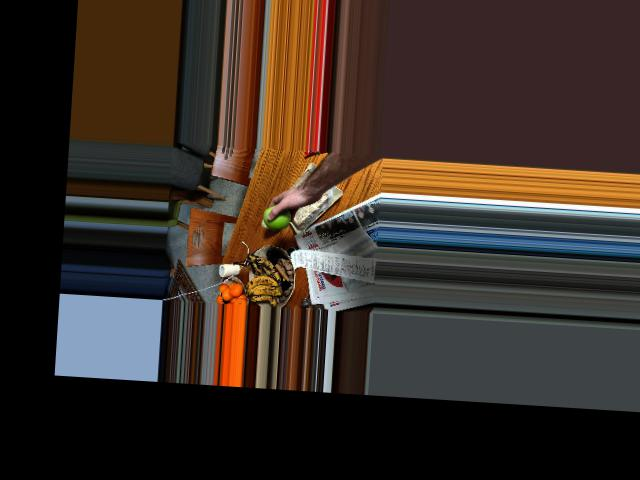apple: (261, 200, 294, 229)
